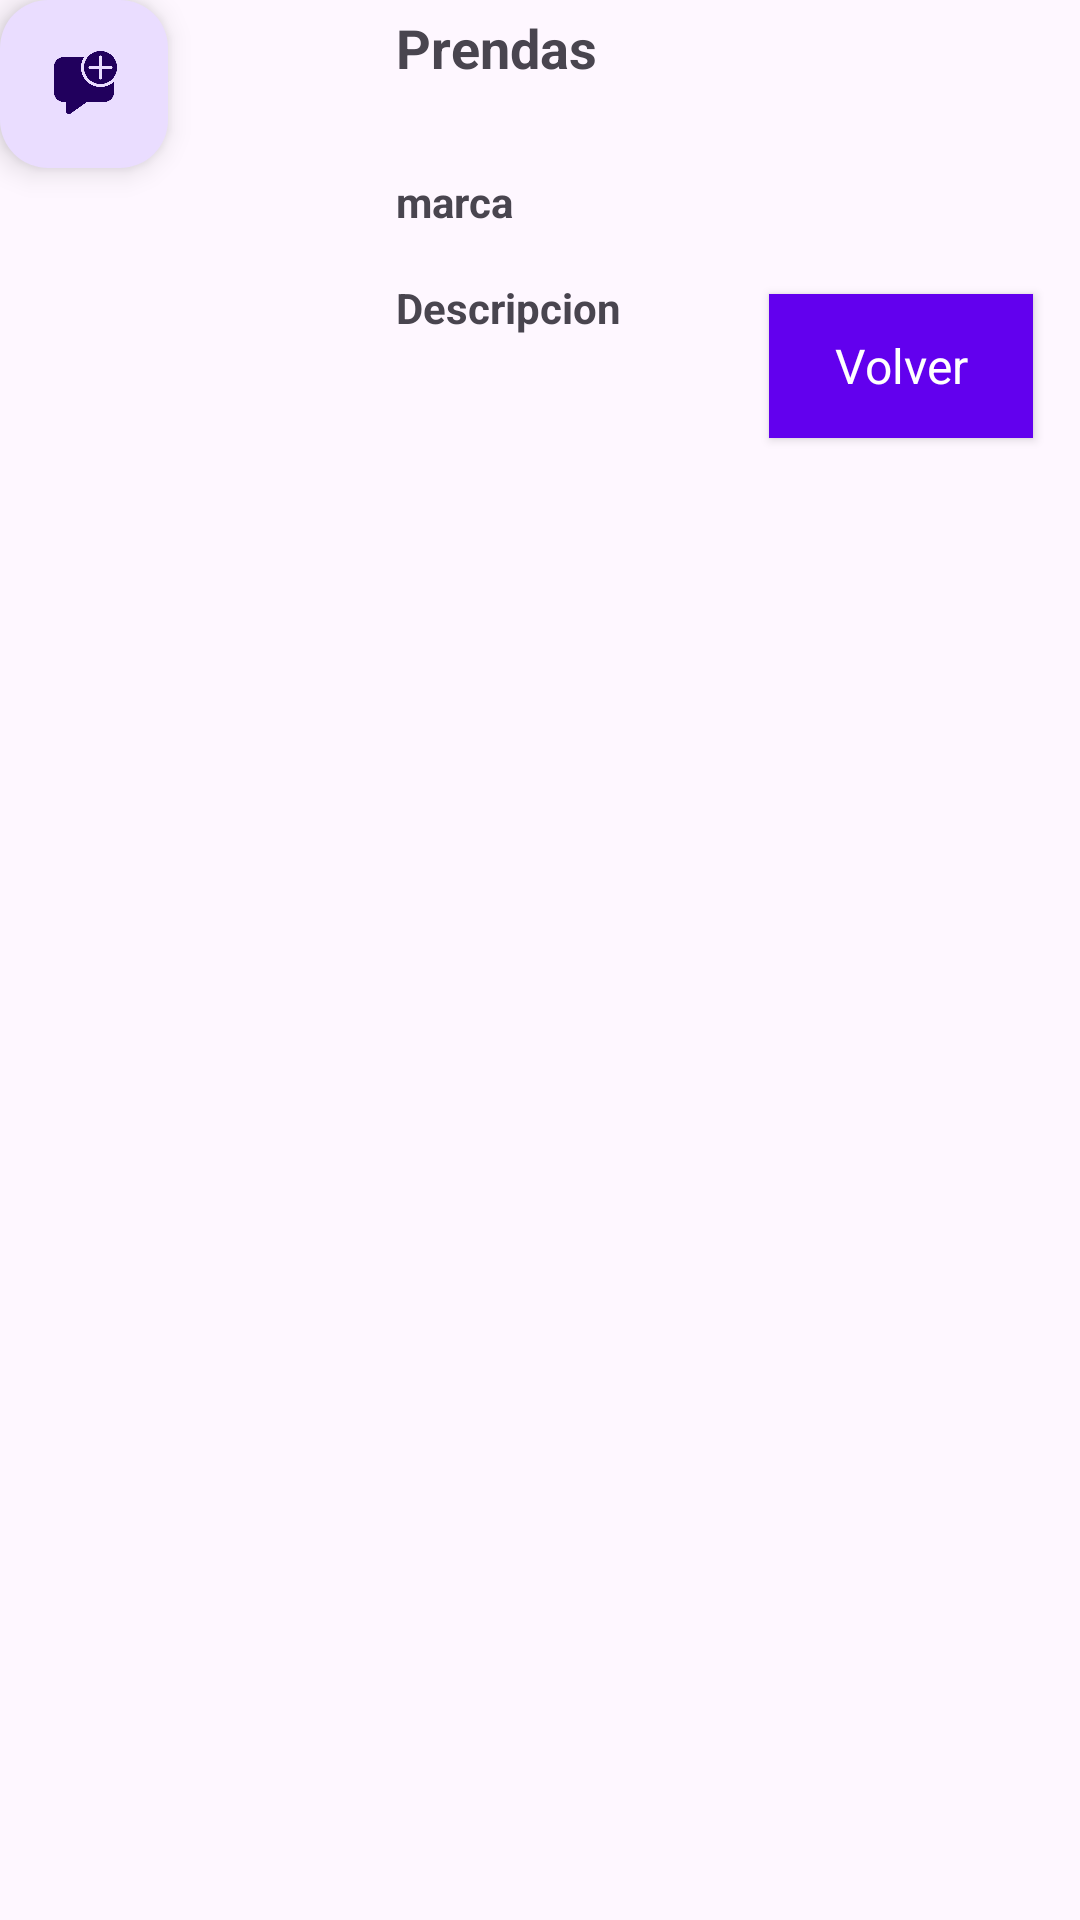

Where icons sit on this 1080 × 1920 app screen, as [x1, y1, x2, y2]:
Agregar comentario privado: [54, 51, 117, 114]
